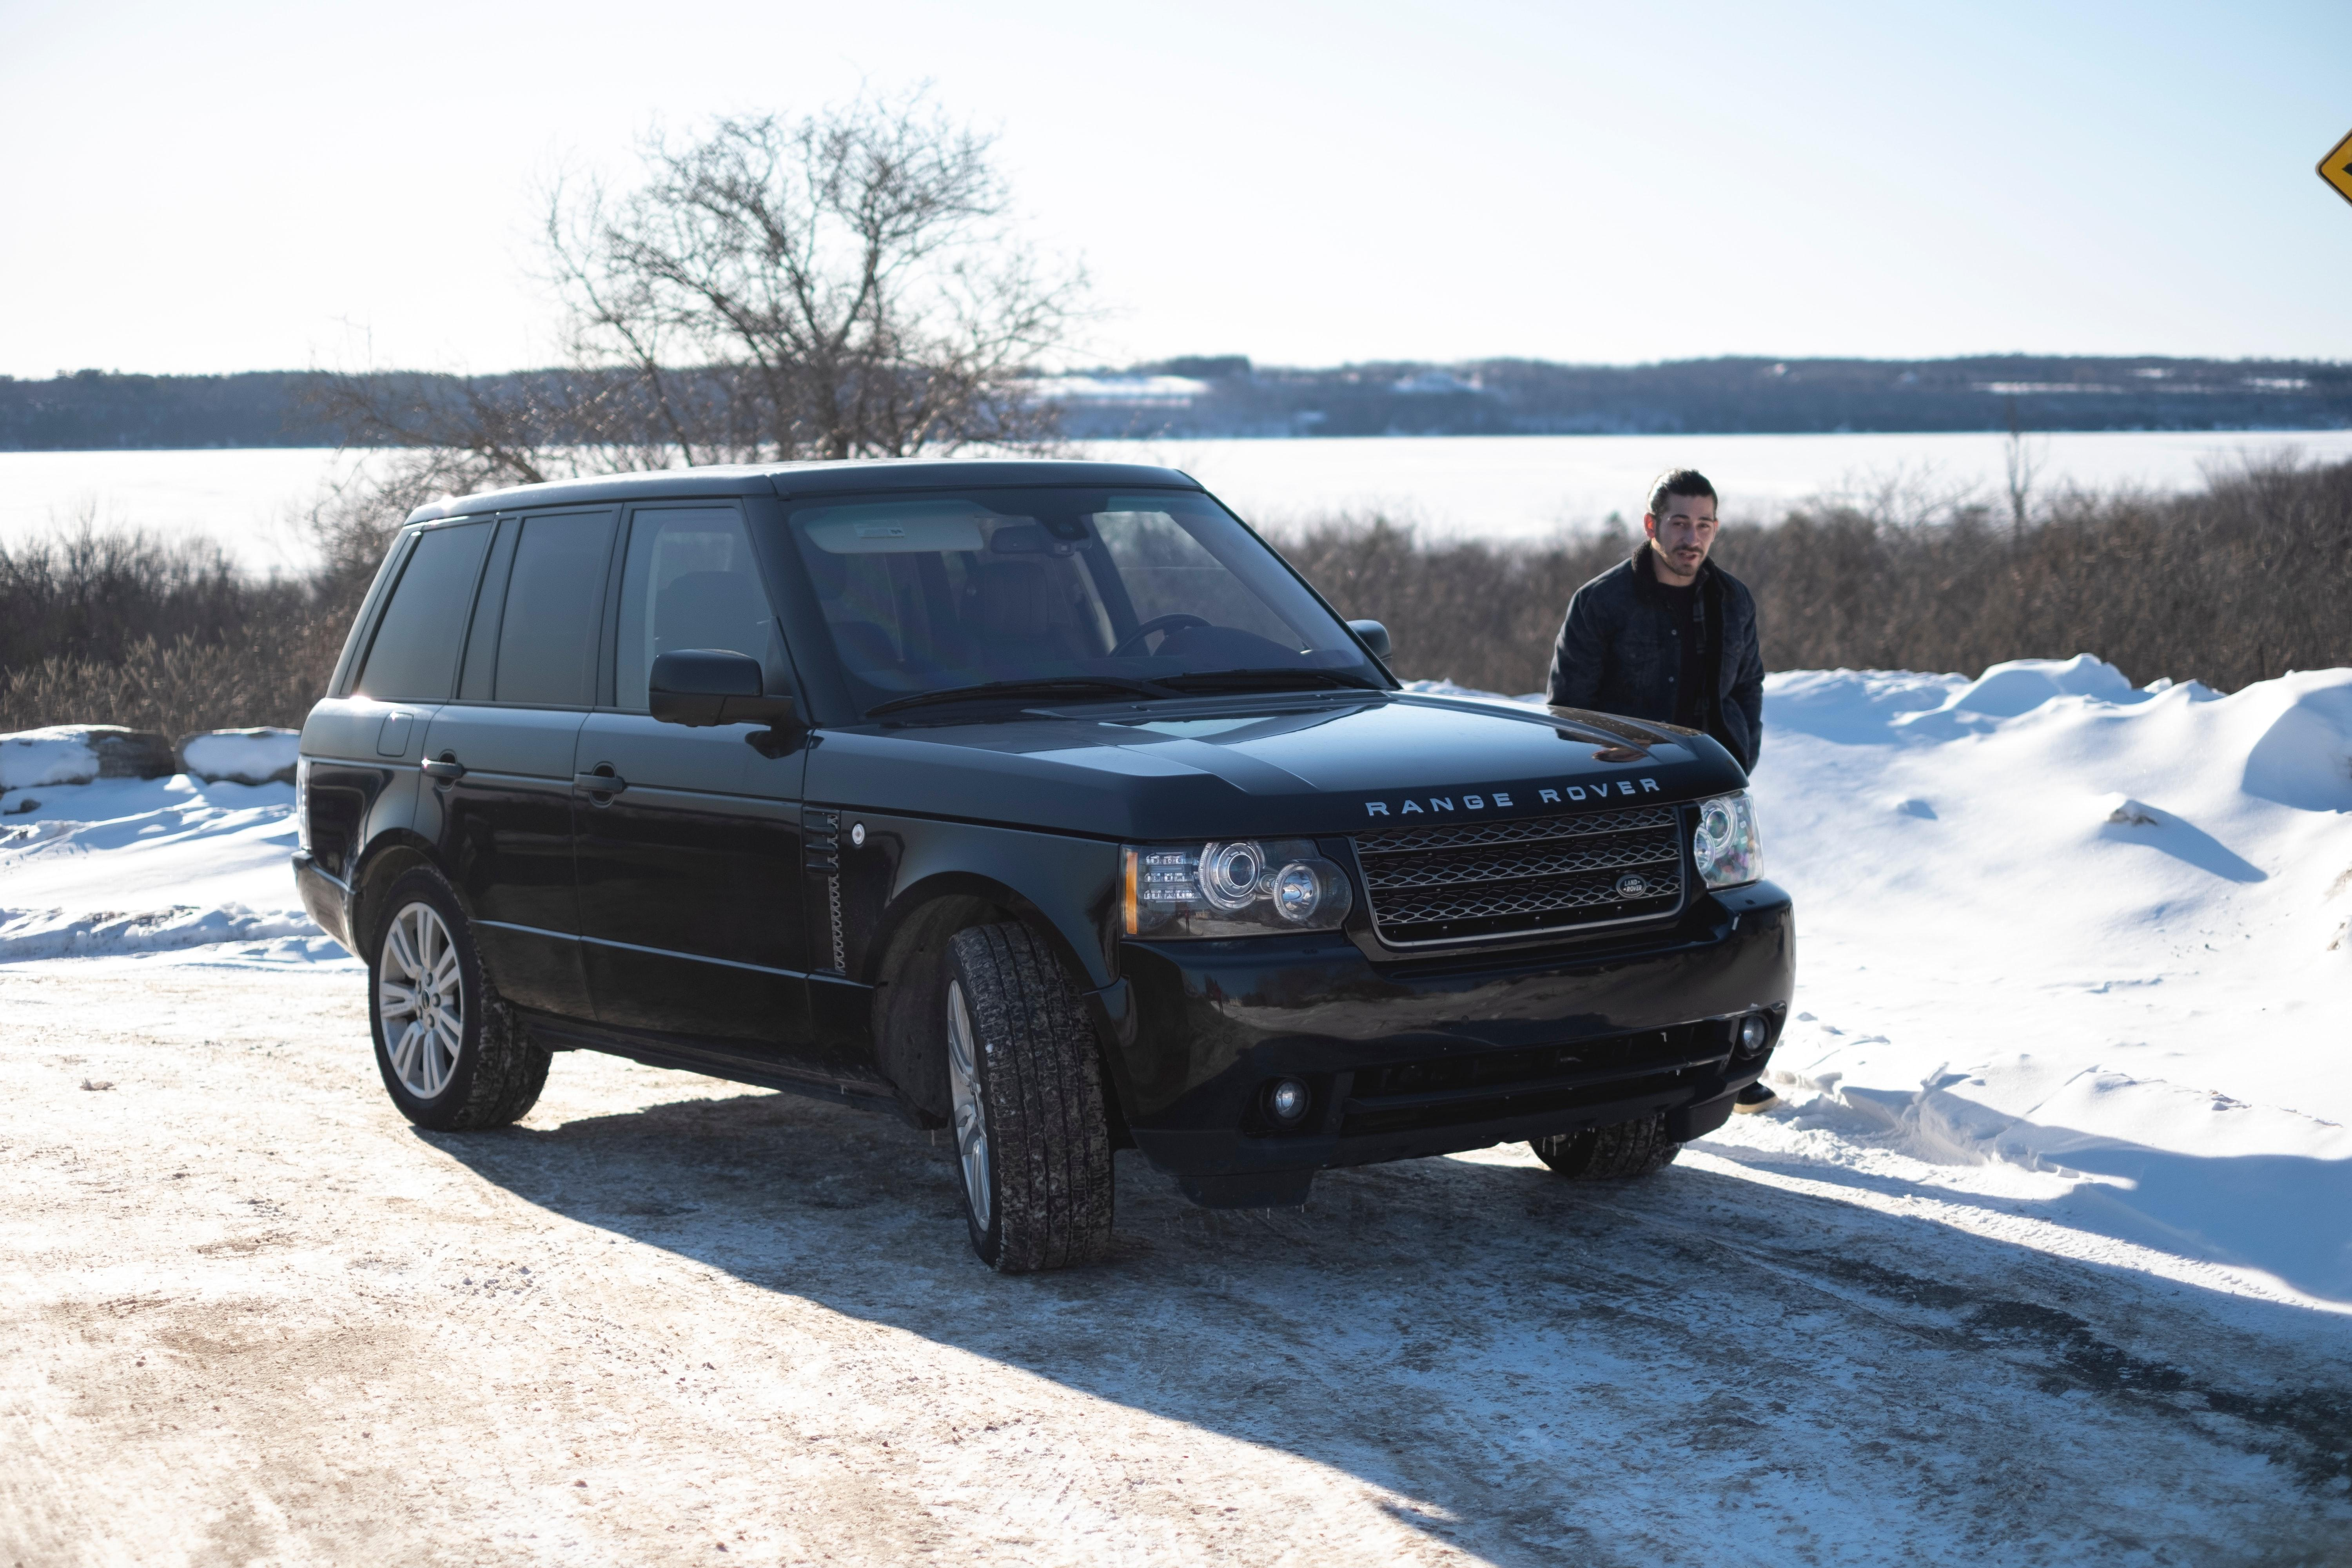range rover: (1349, 765, 1685, 840)
